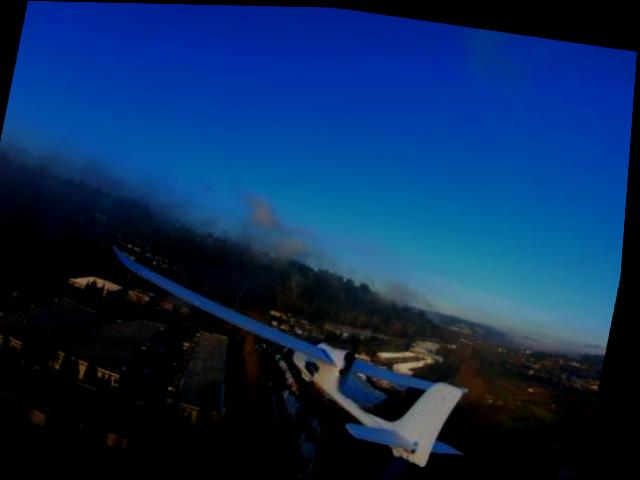uav: (72, 229, 512, 478)
